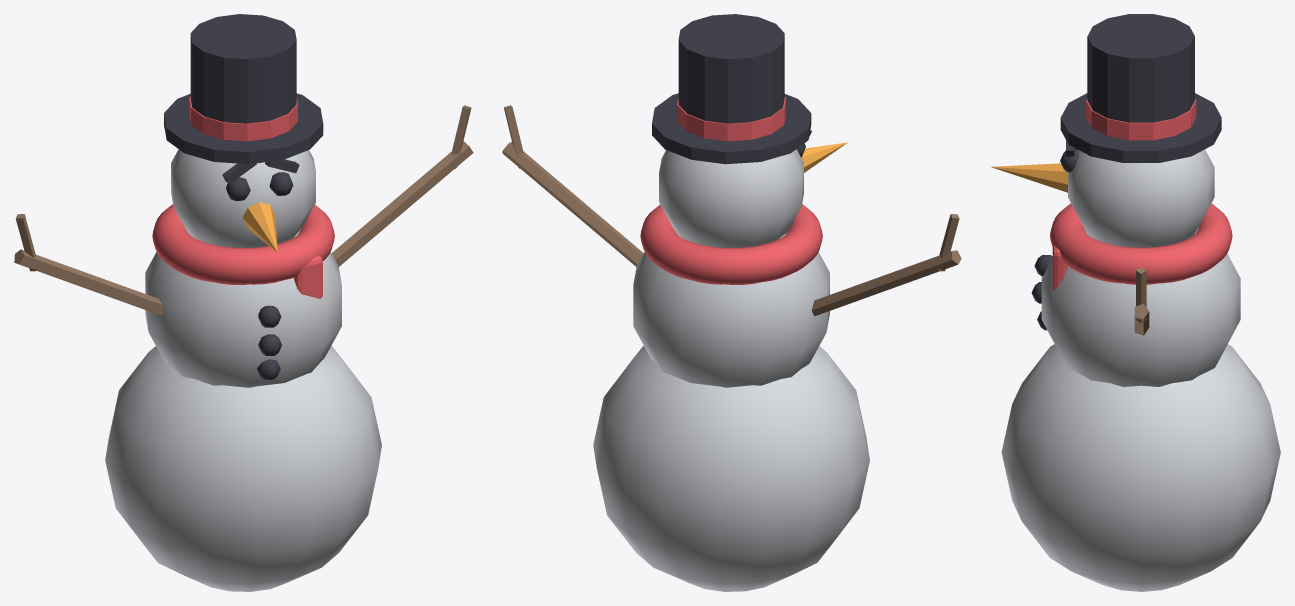
File: snowman.glb
The picture shows the model from 3 angles, left to right: view 1: azimuth 30°, elevation 25°; view 2: azimuth 150°, elevation 25°; view 3: azimuth 270°, elevation 25°; orthographic projection.
Parts seen in each view (by area): view 1: snowman_mesh; view 2: snowman_mesh; view 3: snowman_mesh.
Part boxes in pixels (x1,y1,x2,y2): snowman_mesh: (14,14,473,591); snowman_mesh: (502,14,961,591); snowman_mesh: (991,14,1280,591).
Bounding box in the file's own units: 1.96 × 2.23 × 1.08.
